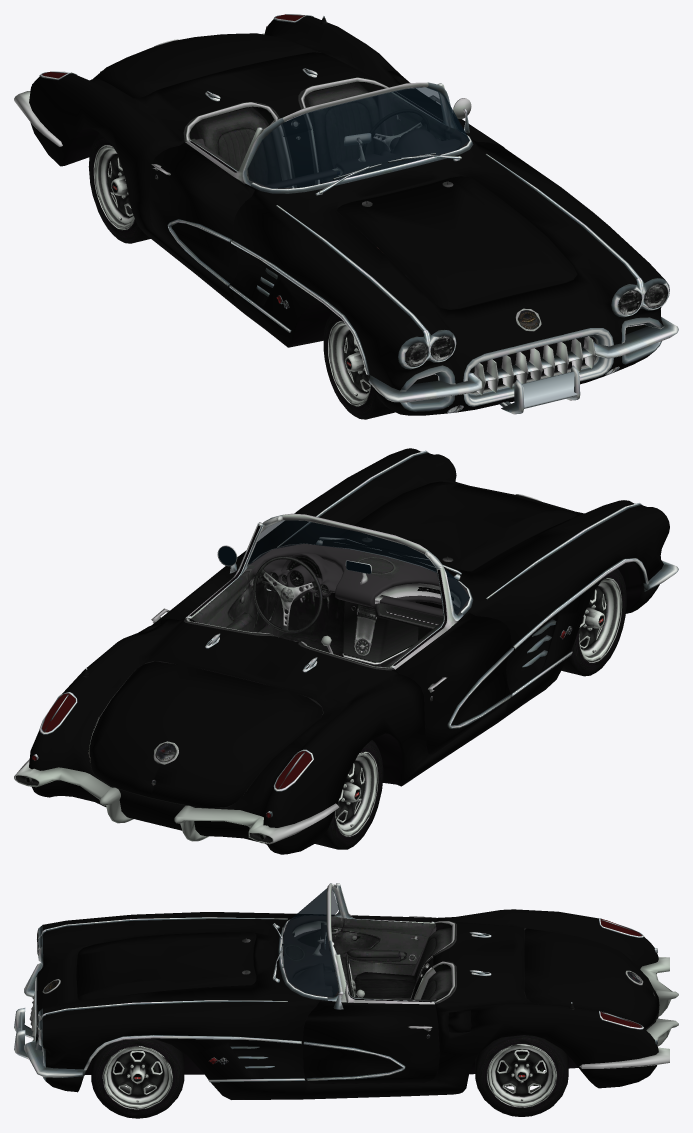
File: chevrolet-lucifer-s-corvette.glb
3 views of the same model, one above another, from view 1: azimuth 30°, elevation 25°; view 2: azimuth 150°, elevation 25°; view 3: azimuth 270°, elevation 25° (orthographic). The views are drawn at different scales.
Visible parts, largest first — view 1: Object_7, Object_2, Object_4, Object_3, Object_10, Object_8, Object_5; view 2: Object_7, Object_4, Object_2, Object_10, Object_3, Object_8, Object_5; view 3: Object_7, Object_2, Object_4, Object_10, Object_8, Object_3, Object_5.
Boxes of the visible parts, left/top/right/bottom form: Object_7: left=29, top=15, right=667, bottom=415; Object_2: left=14, top=14, right=678, bottom=414; Object_4: left=189, top=81, right=471, bottom=188; Object_3: left=247, top=87, right=469, bottom=188; Object_10: left=93, top=145, right=370, bottom=406; Object_8: left=88, top=133, right=395, bottom=419; Object_5: left=42, top=14, right=667, bottom=412; Object_7: left=16, top=448, right=669, bottom=854; Object_4: left=189, top=543, right=469, bottom=669; Object_2: left=14, top=450, right=678, bottom=844; Object_10: left=335, top=578, right=622, bottom=836; Object_3: left=248, top=520, right=469, bottom=614; Object_8: left=315, top=568, right=626, bottom=849; Object_5: left=32, top=693, right=311, bottom=818; Object_7: left=35, top=887, right=659, bottom=1099; Object_2: left=14, top=883, right=678, bottom=1082; Object_4: left=282, top=915, right=451, bottom=1009; Object_10: left=102, top=1044, right=556, bottom=1109; Object_8: left=91, top=1035, right=568, bottom=1118; Object_3: left=281, top=888, right=338, bottom=997; Object_5: left=37, top=919, right=658, bottom=1040.
Size of the model in its own units: 105 by 69.59 by 256.
9 materials, 7 textured.
